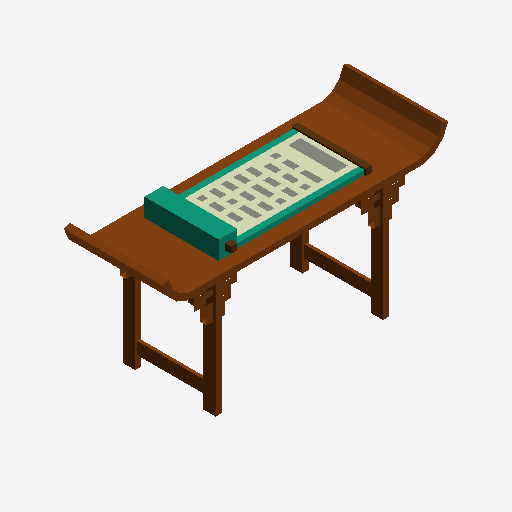
A Minecraft block model of 21 cuboids, rendered isometrically (azimuth 45°, elevation 35.3°) with the resource pack's own textures.
Visible parts, largest first — element 1, element 20, element 18, element 9, element 7, element 11, element 4, element 6, element 5, element 8, element 13, element 12 (+4 smaller).
Part boxes in pixels (left/top/right/bottom): element 1: left=91, top=101, right=422, bottom=299; element 20: left=179, top=129, right=363, bottom=247; element 18: left=144, top=186, right=236, bottom=260; element 9: left=203, top=281, right=221, bottom=416; element 7: left=339, top=64, right=447, bottom=136; element 11: left=371, top=185, right=388, bottom=319; element 4: left=64, top=223, right=172, bottom=295; element 6: left=332, top=79, right=442, bottom=151; element 5: left=323, top=91, right=434, bottom=163; element 8: left=123, top=276, right=140, bottom=369; element 13: left=304, top=242, right=370, bottom=296; element 12: left=137, top=339, right=202, bottom=392.
Size of the model in its own units: 46.05 by 23.41 by 16.